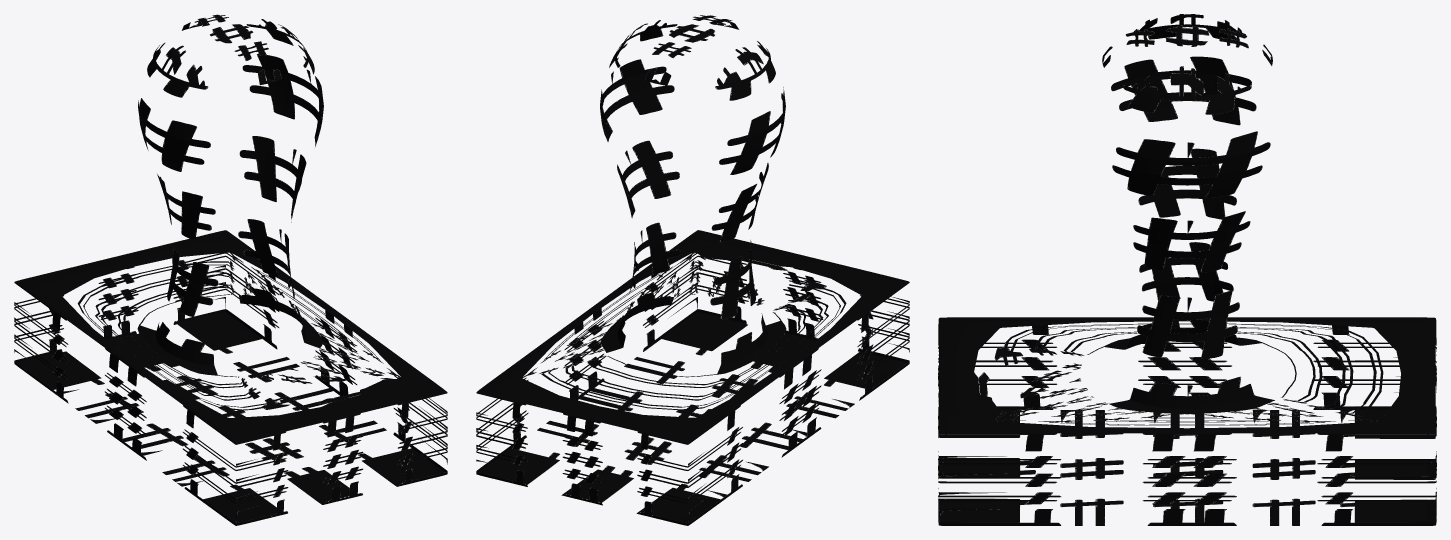
Rendered from StampNumbersPrefab2.fbx.
3 views of the same model, side by side, from view 1: azimuth 30°, elevation 25°; view 2: azimuth 150°, elevation 25°; view 3: azimuth 270°, elevation 25° (orthographic). The views are drawn at different scales.
Visible parts, largest first — view 1: stamp2; view 2: stamp2; view 3: stamp2.
Boxes of the visible parts, <box> form: stamp2: <box>14,14,447,525</box>; stamp2: <box>476,15,909,525</box>; stamp2: <box>938,14,1436,525</box>.
Size of the model in its own units: 155 by 269 by 281.
Materials: 1 (1 with a texture image).
